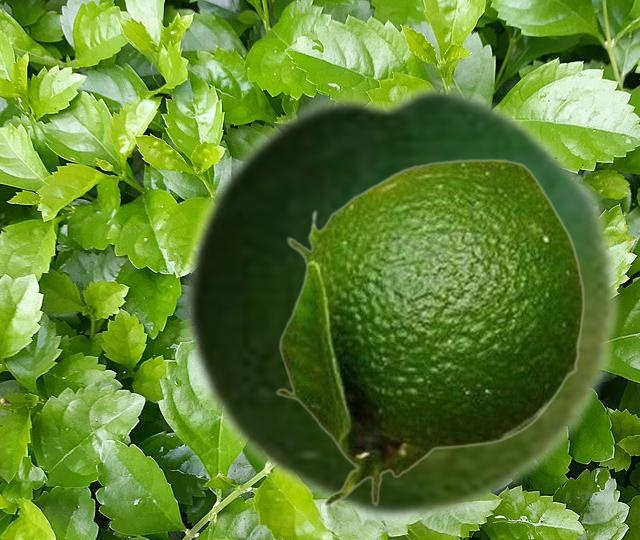dalandan: (178, 76, 623, 527), (274, 158, 584, 507)
